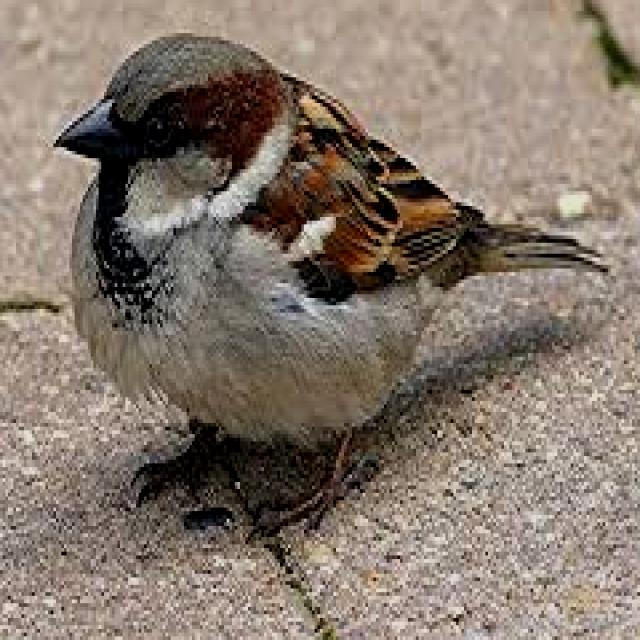bird: (47, 24, 614, 558)
